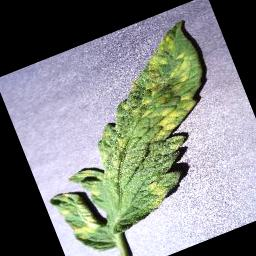Leaf_Mold: (5, 20, 251, 256)
